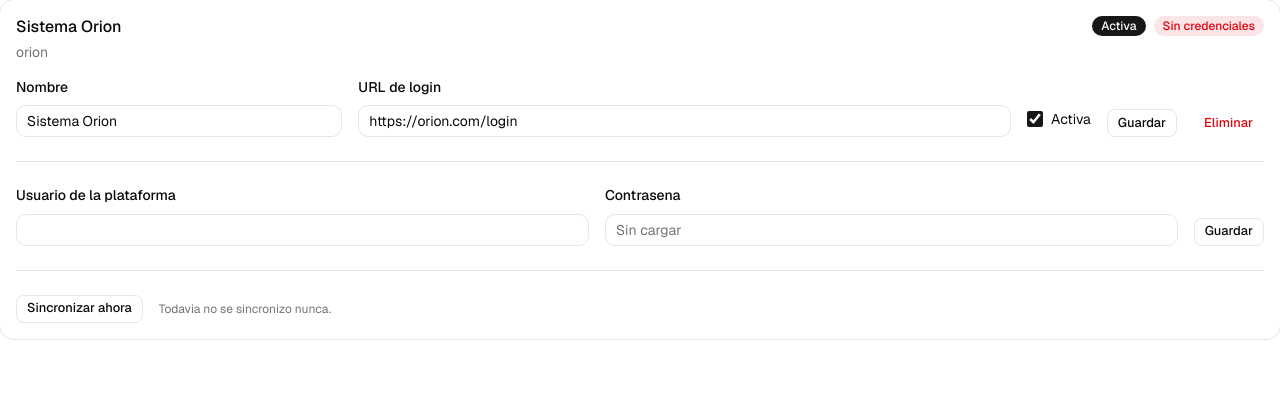
Test: eliminar confirmado manda el id y muestra el error si falla
The width and height of the screenshot is (1280, 411).
Step 1. Click the button "Eliminar" → (1229, 123), box [1193,109,1264,137]
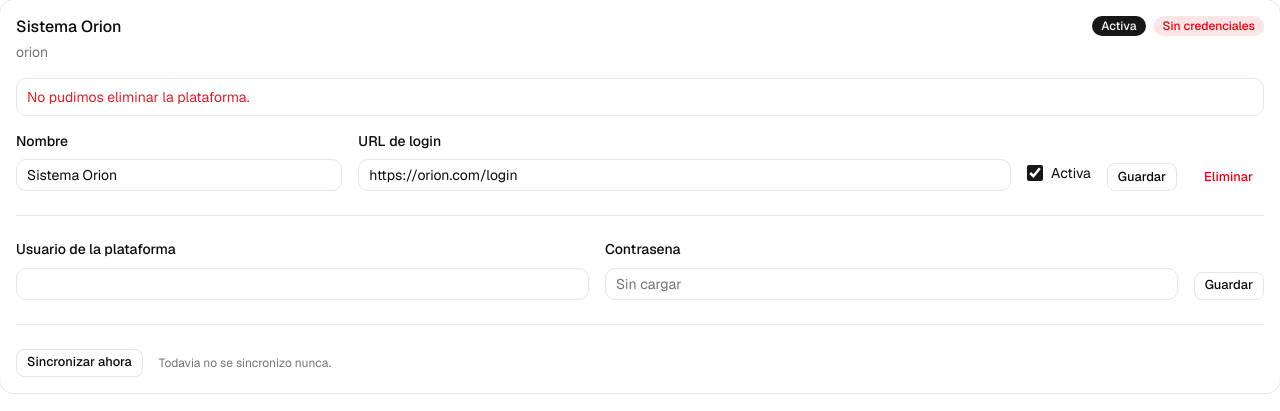
Expected: the text "No pudimos eliminar la plataforma." is shown, [27,88,250,106]
